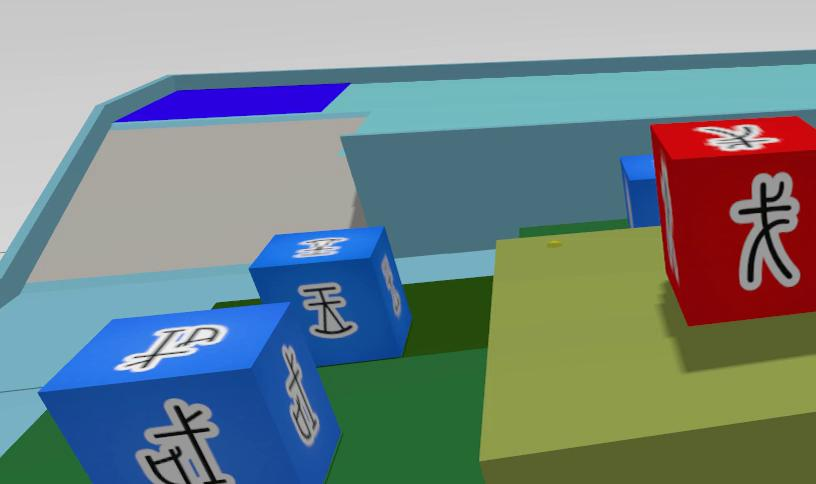KFS_FAKE: (652, 116, 816, 325), (732, 172, 799, 289), (694, 123, 780, 150)
KFS_REAL: (39, 303, 340, 484), (249, 227, 411, 365), (135, 399, 234, 484), (115, 324, 226, 371), (282, 345, 320, 445), (298, 283, 357, 337)
